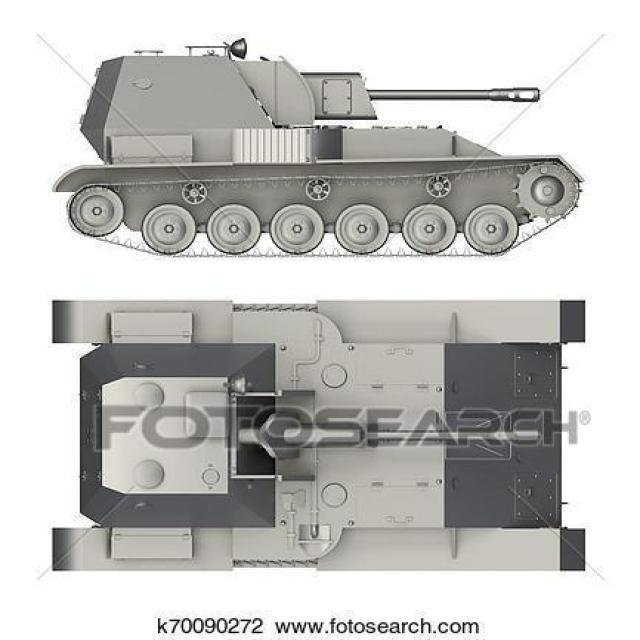MIL_MBT: (37, 284, 600, 593), (41, 29, 585, 261)
